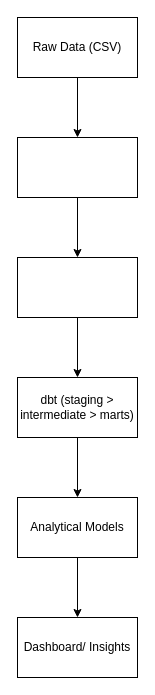
The diagram is 155 pixels wide and 695 high, and some of its shapes have lost their labels. The shapes that lost their labels are listed below. From the top down, each one's centre as x and y in pixels, then its label:
(77,167): Python Ingestion Script
(77,287): BigQuery (Raw Tables)
